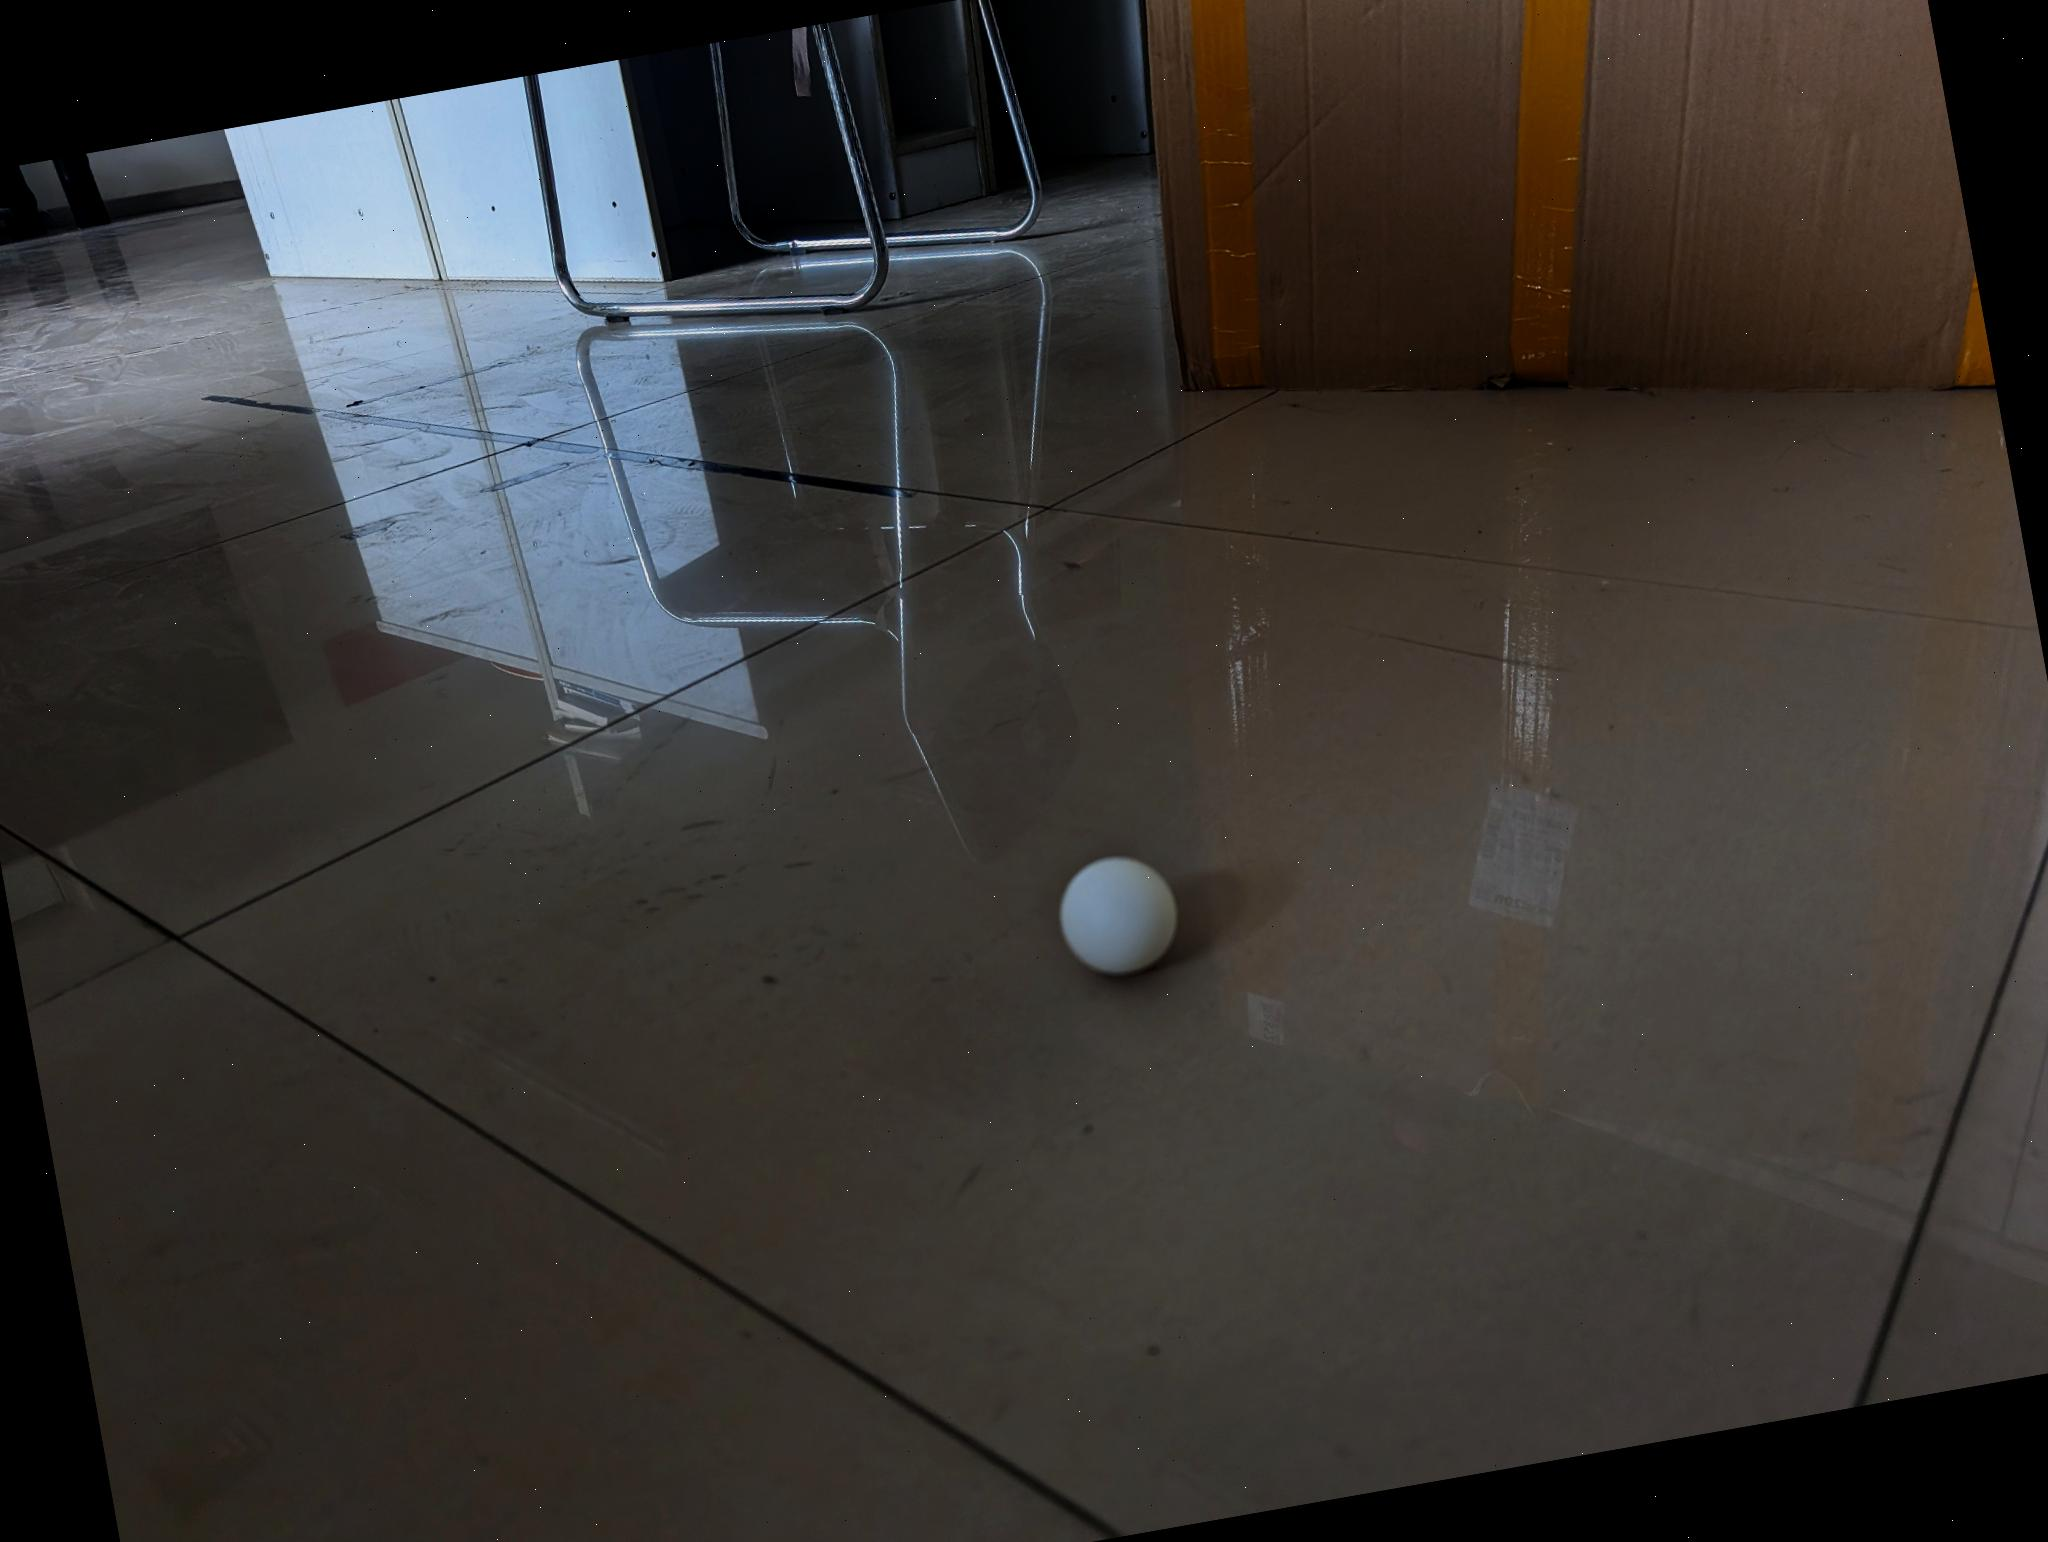ball: (1039, 836, 1192, 998)
